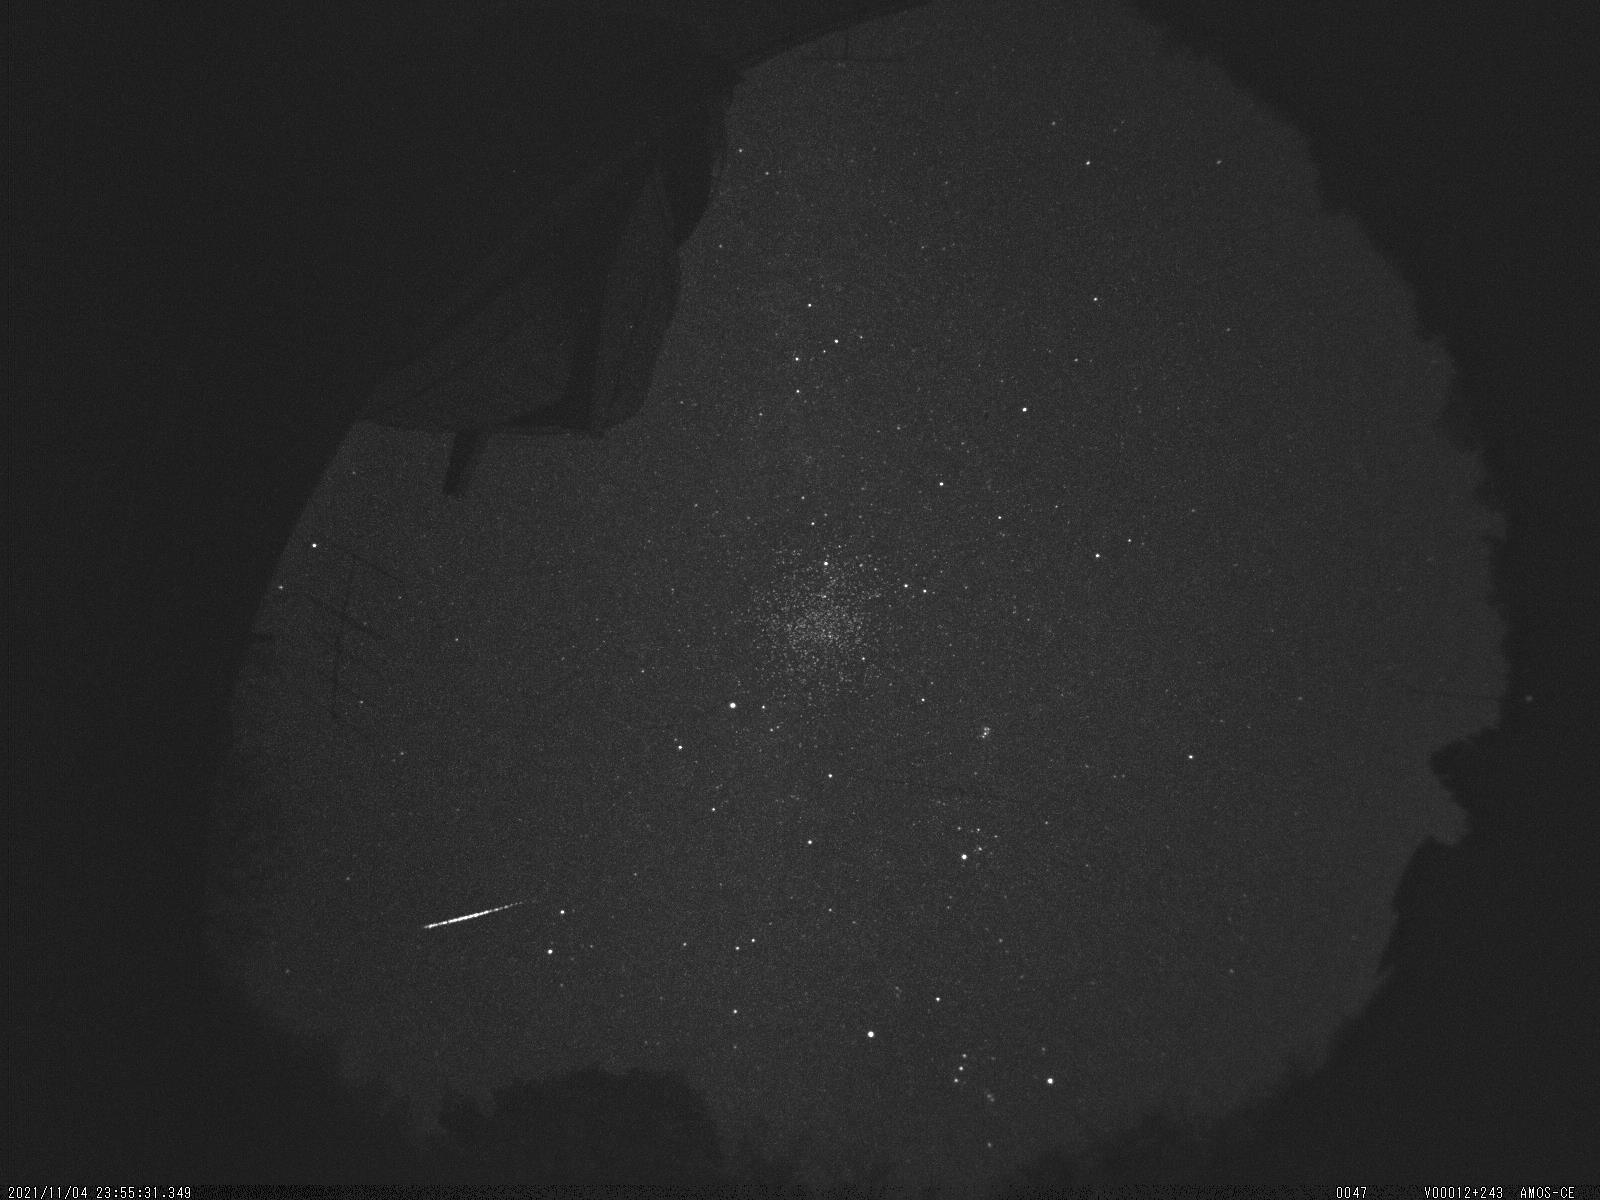Meteor: (422, 884, 537, 947)
